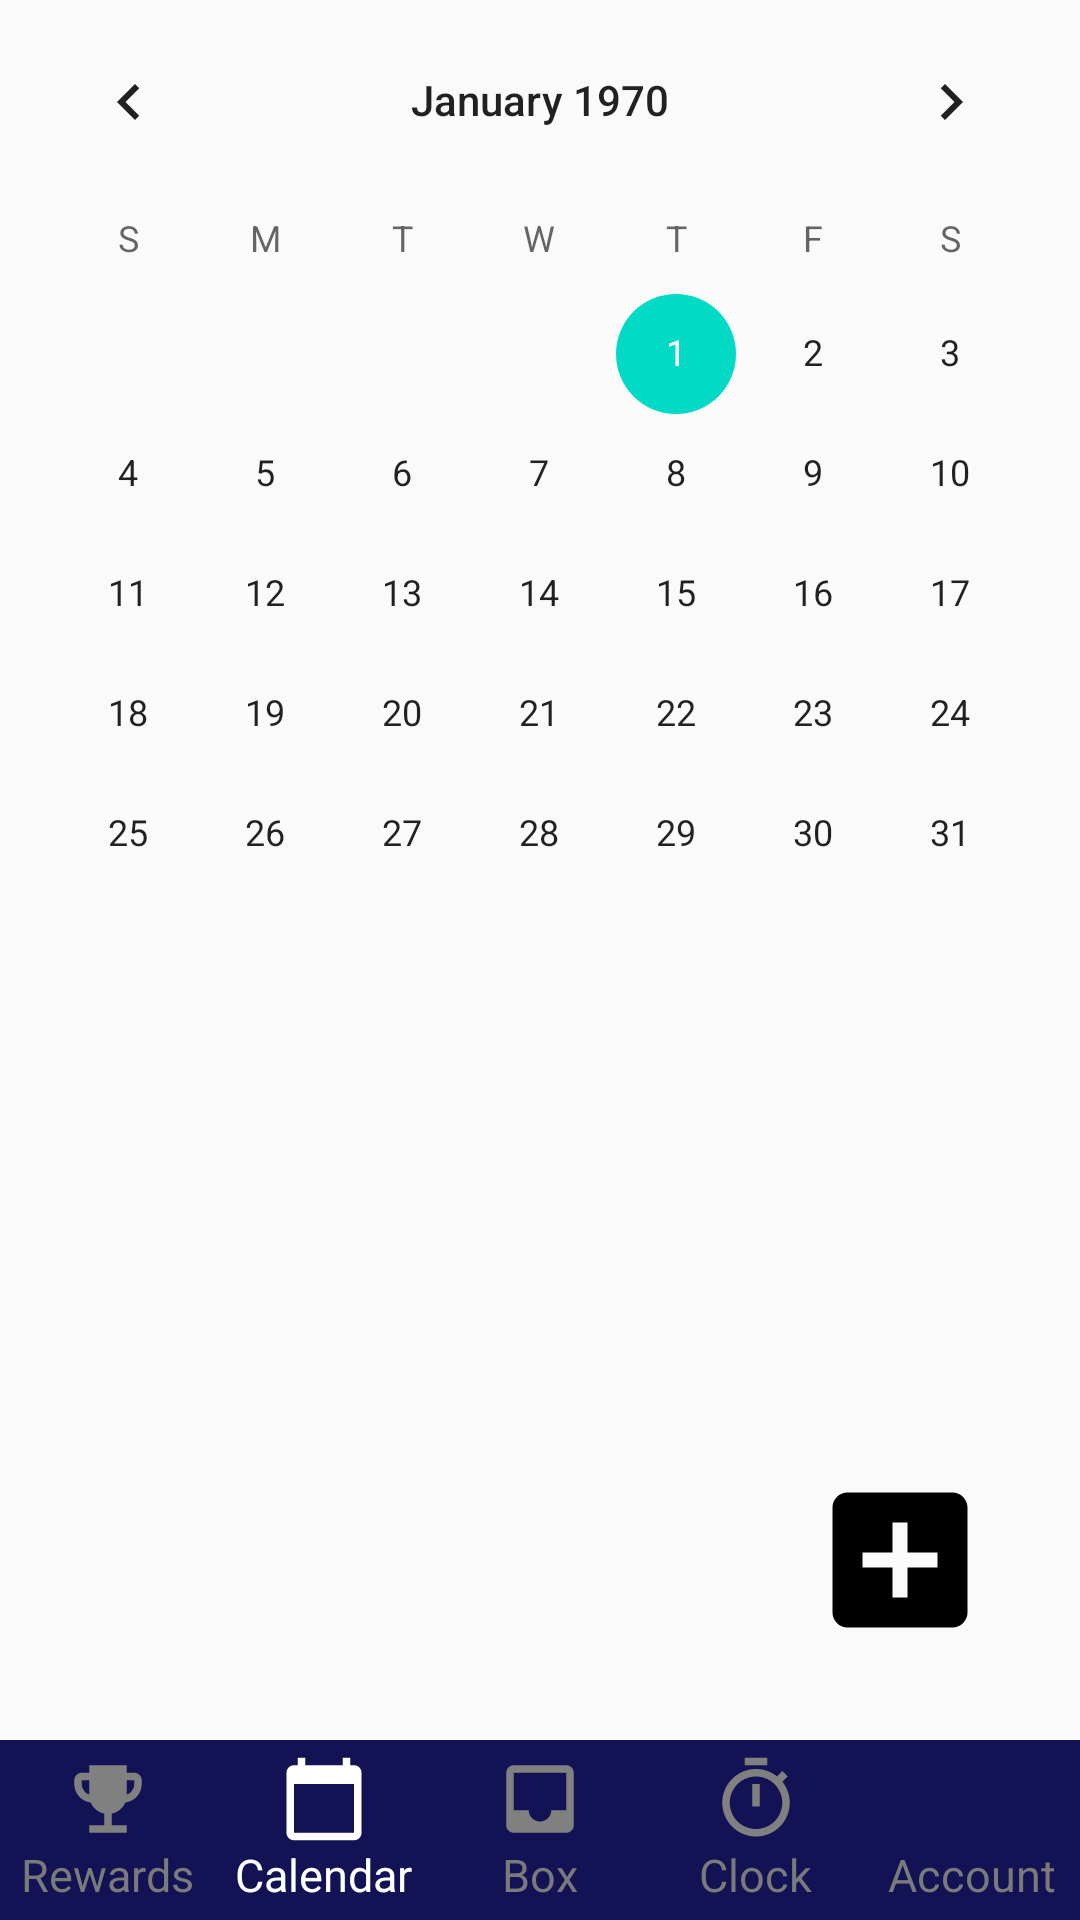

Icons on this 1080 × 1920 Android screen, each with the point to tap as (x,y):
Add Task: (900,1560)
